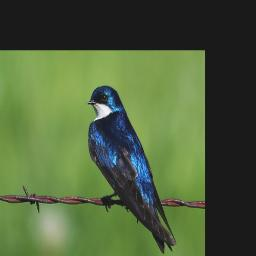Swallow: (86, 85, 177, 254)
